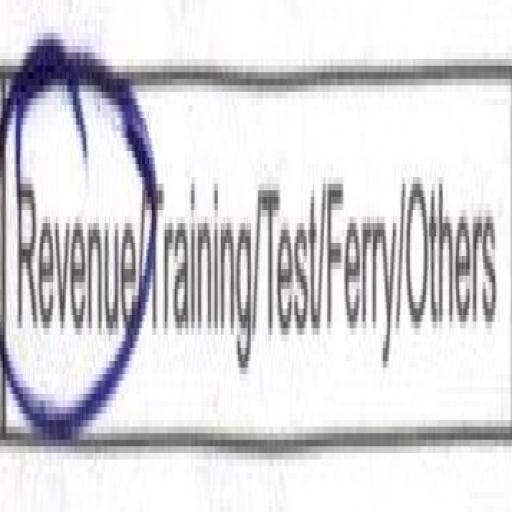check: (0, 9, 142, 495)
